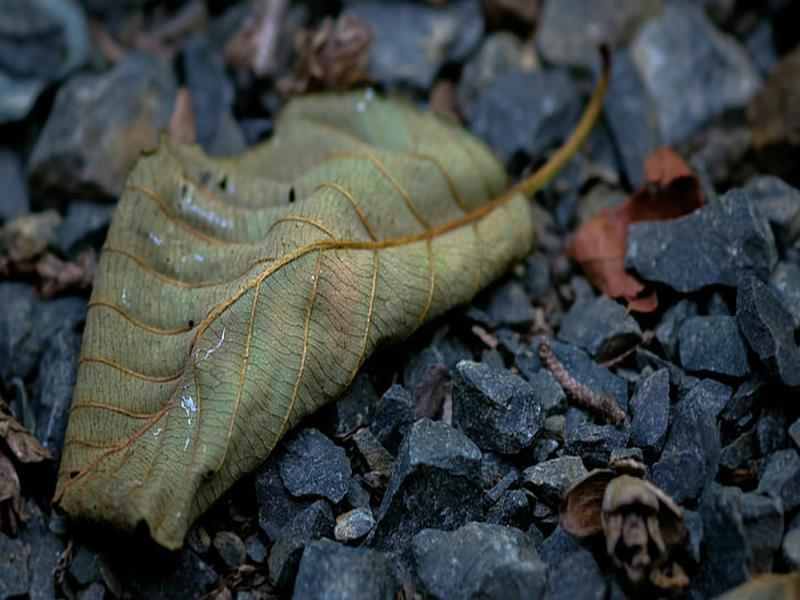leaf: (47, 67, 607, 559)
